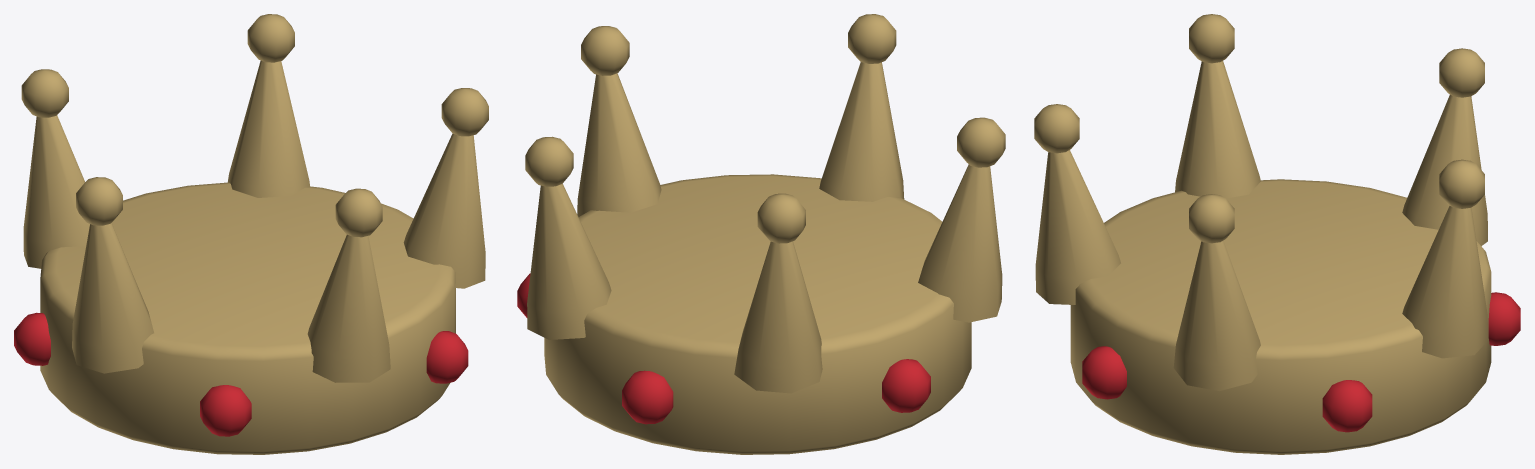
File: Kit_Deco_Crown.glb
3 renders of one model, left to right at view 1: azimuth 30°, elevation 25°; view 2: azimuth 150°, elevation 25°; view 3: azimuth 270°, elevation 25°, orthographic. The views are drawn at different scales.
Visible parts, largest first — view 1: Kit_Deco_Crown; view 2: Kit_Deco_Crown; view 3: Kit_Deco_Crown.
Boxes of the visible parts, x1,y1,x2,y2 form: Kit_Deco_Crown: (14, 14, 488, 454); Kit_Deco_Crown: (517, 14, 1005, 454); Kit_Deco_Crown: (1034, 14, 1520, 454).
Bounding box in the file's own units: 0.2073 × 0.128 × 0.2128.
